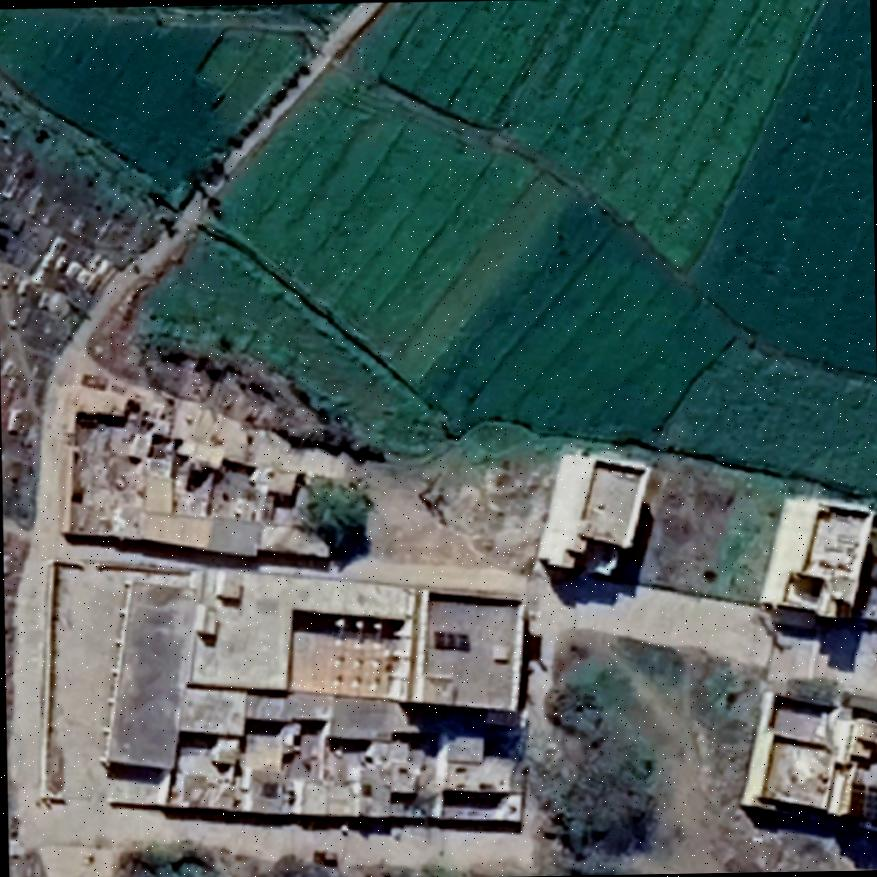Solarpanel: (843, 777, 877, 828), (430, 627, 473, 655)
